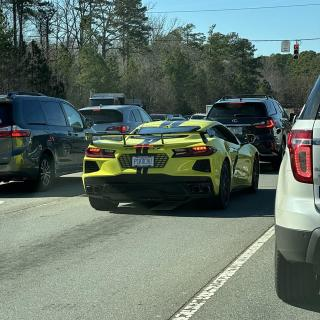license: (133, 156, 156, 169)
